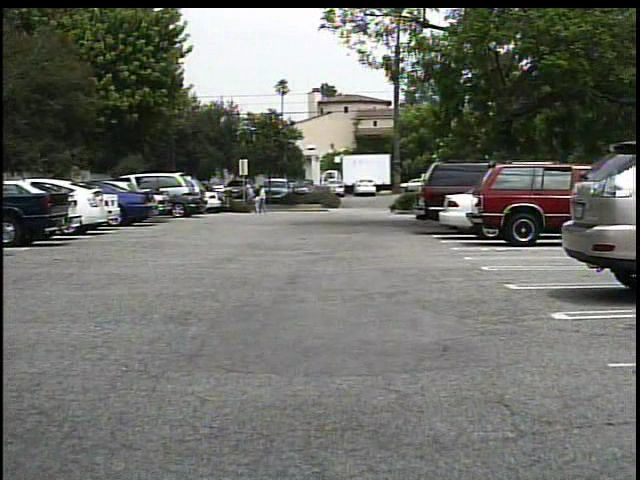person: (258, 183, 272, 217), (244, 183, 259, 206), (260, 185, 261, 215)
